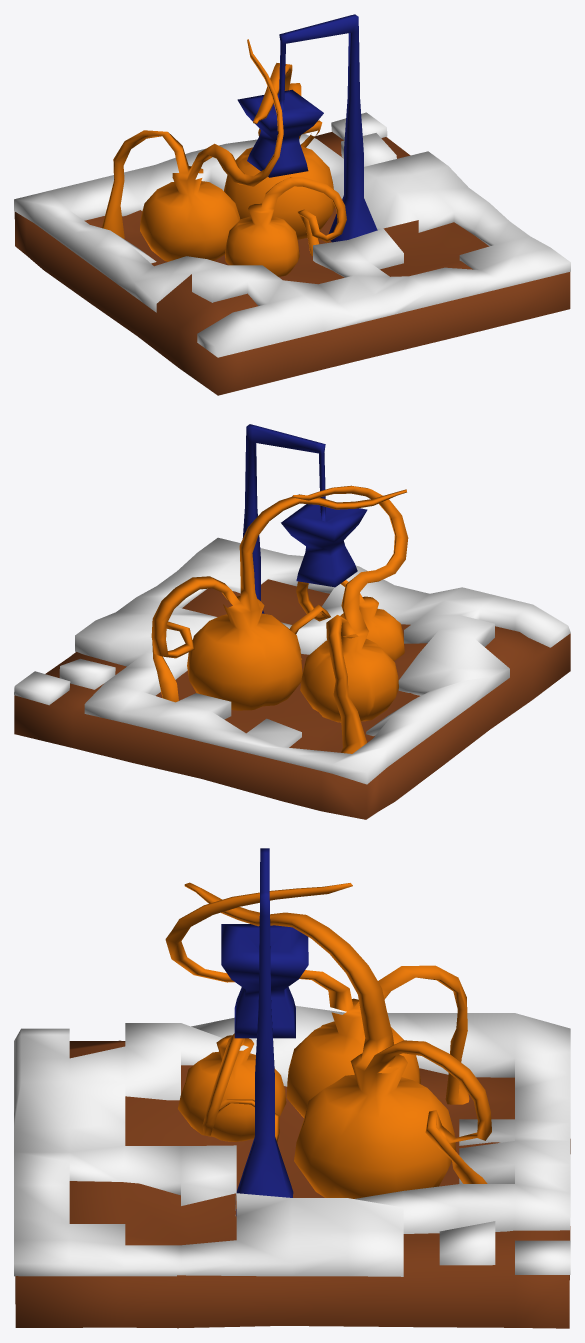
The model's file is pumpkinpatch.glb.
3 renders of one model, top to bottom at view 1: azimuth 30°, elevation 25°; view 2: azimuth 150°, elevation 25°; view 3: azimuth 270°, elevation 25°, orthographic. The views are drawn at different scales.
Visible parts, largest first — view 1: Plane001; view 2: Plane001; view 3: Plane001.
Boxes of the visible parts, x1,y1,x2,y2 form: Plane001: (14, 14, 570, 395); Plane001: (14, 424, 570, 819); Plane001: (14, 848, 570, 1328).
Size of the model in its own units: 248 by 173 by 247.
